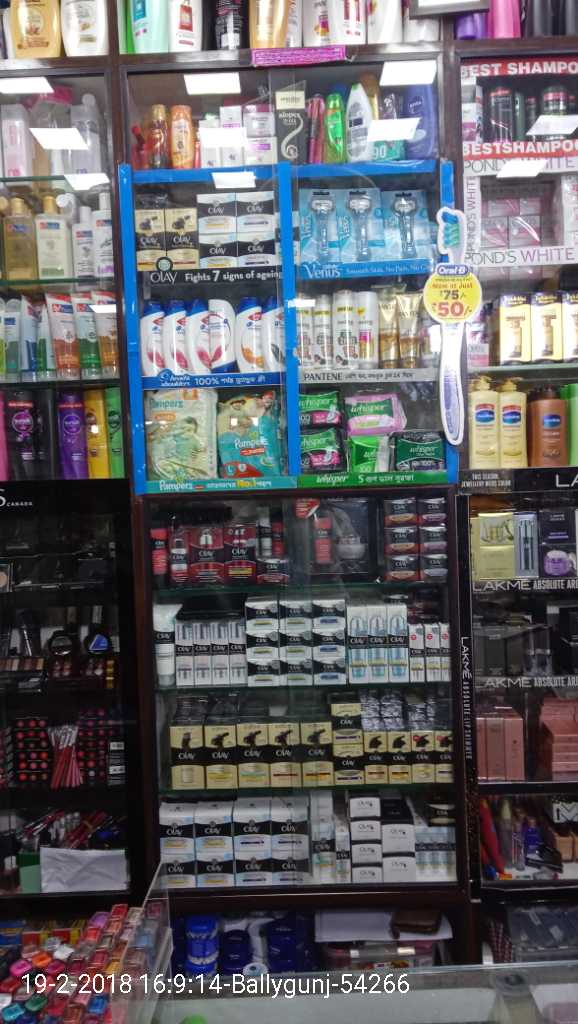venus: (337, 189, 384, 262), (388, 190, 427, 261), (301, 189, 337, 262)
